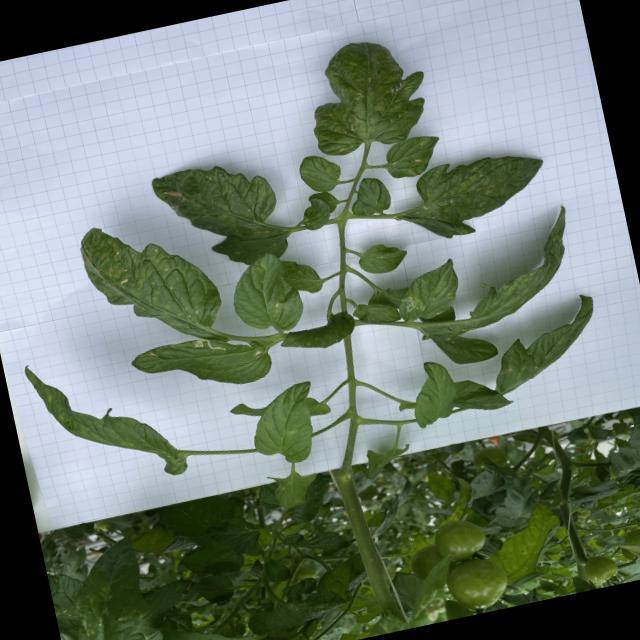Tomato healthy leaf: (23, 336, 189, 502), (161, 607, 290, 640), (404, 356, 462, 429), (276, 308, 360, 358), (181, 538, 247, 582), (194, 571, 236, 607)
Tomato target spot leaf: (128, 324, 274, 406), (390, 256, 464, 324)
